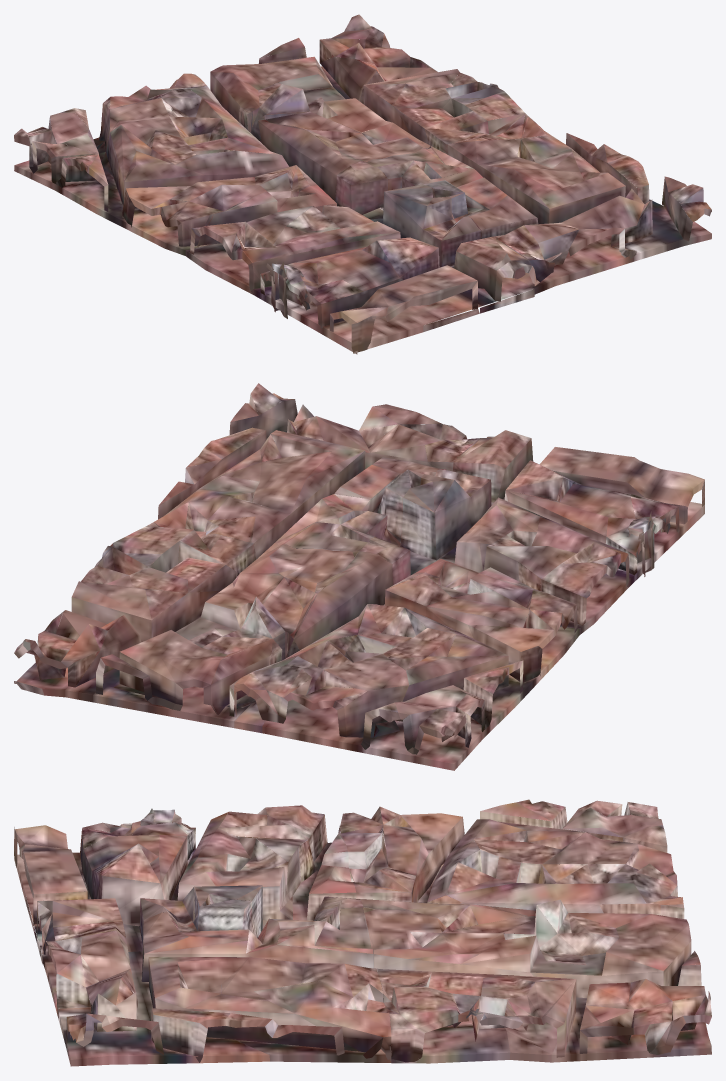
3 views of the same model, one above another, from view 1: azimuth 30°, elevation 25°; view 2: azimuth 150°, elevation 25°; view 3: azimuth 270°, elevation 25° (orthographic). The views are drawn at different scales.
Parts seen in each view (by area): view 1: Mesh_0; view 2: Mesh_0; view 3: Mesh_0.
Part boxes in pixels (x1=…): Mesh_0: x1=14, y1=14, x2=711, y2=354; Mesh_0: x1=14, y1=383, x2=704, y2=770; Mesh_0: x1=14, y1=799, x2=711, y2=1066.
Size of the model in its own units: 266 by 39.73 by 330.
2 materials, 2 textured.
